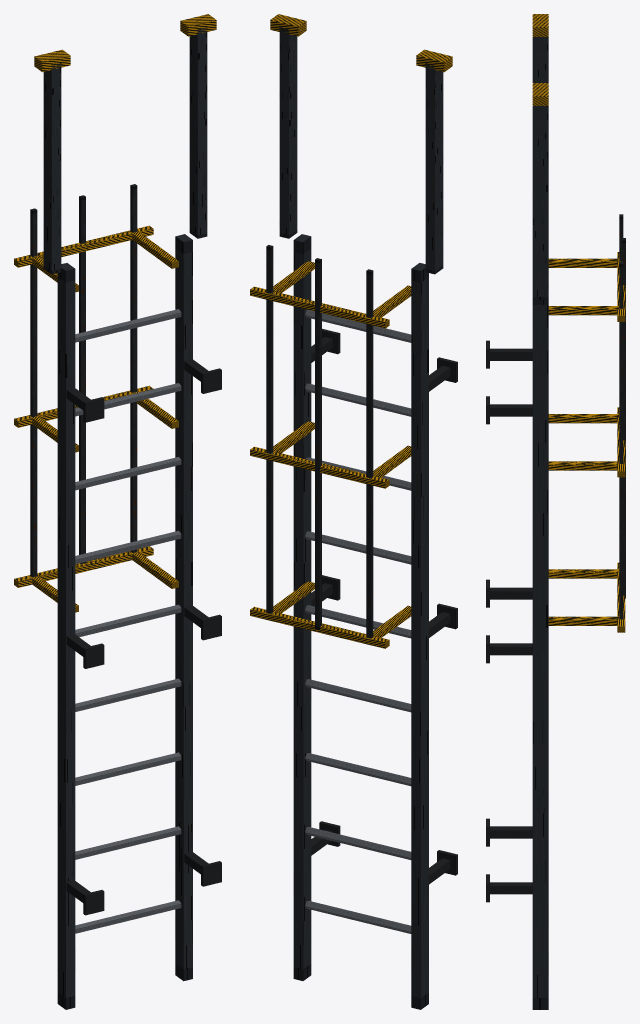
File: ladder.glb
3 views of the same model, side by side, from view 1: azimuth 30°, elevation 25°; view 2: azimuth 150°, elevation 25°; view 3: azimuth 270°, elevation 25° (orthographic). The views are drawn at different scales.
Parts seen in each view (by area): view 1: ladder; view 2: ladder; view 3: ladder.
Part boxes in pixels (x1,y1,x2,y2): ladder: [14, 14, 221, 1009]; ladder: [250, 14, 457, 1009]; ladder: [486, 14, 625, 1009].
Size of the model in its own units: 0.74 by 3.87 by 0.531.
1 material, 1 textured.
